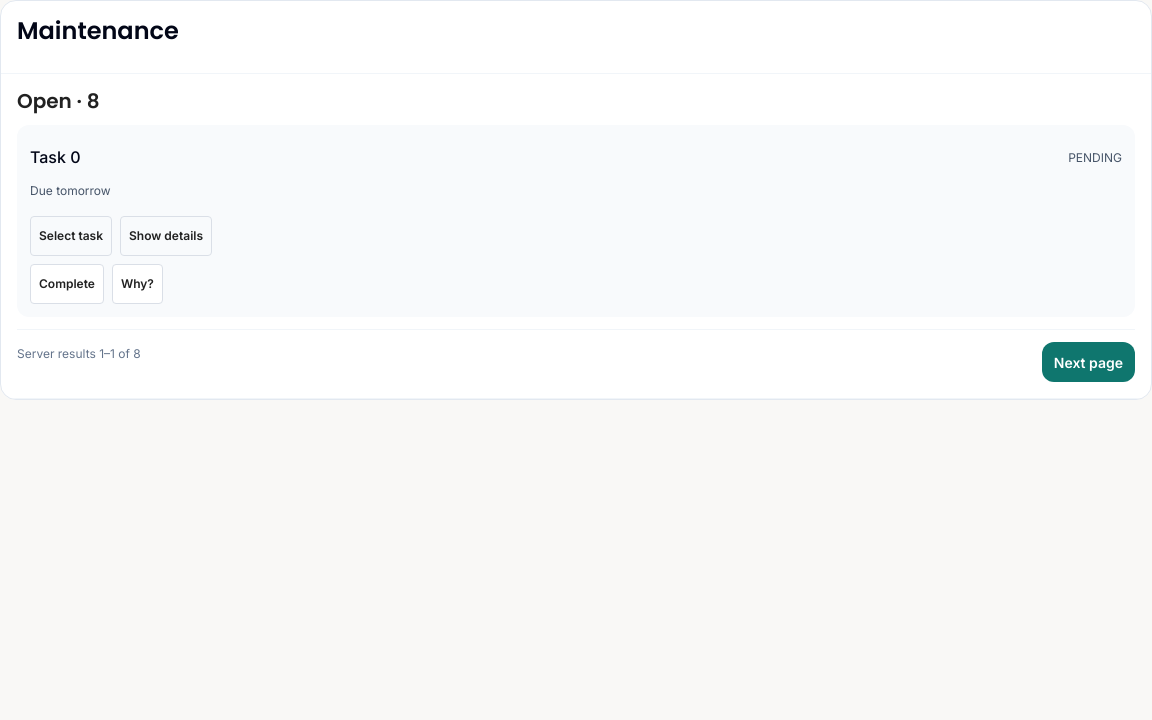
Test: canonical completed state removes stale mutation actions from the row and detail
This screenshot has width=1152, height=720.
Expected: the button "Complete" is shown, [30,264,104,304]
Click the button "Task 0". click: {"x": 55, "y": 158}
box: [30,138,80,178]
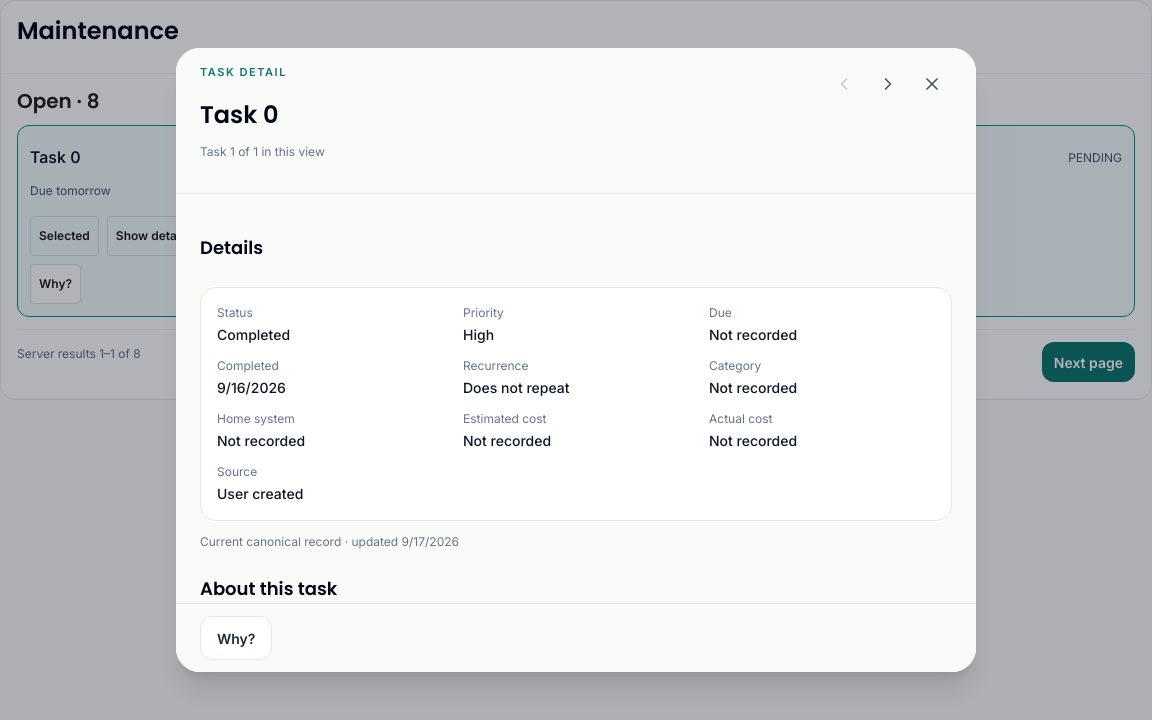
Expected: the button "Why?" is shown, [200,616,272,660]
